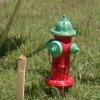a fire hydrant: (48, 17, 78, 90)
